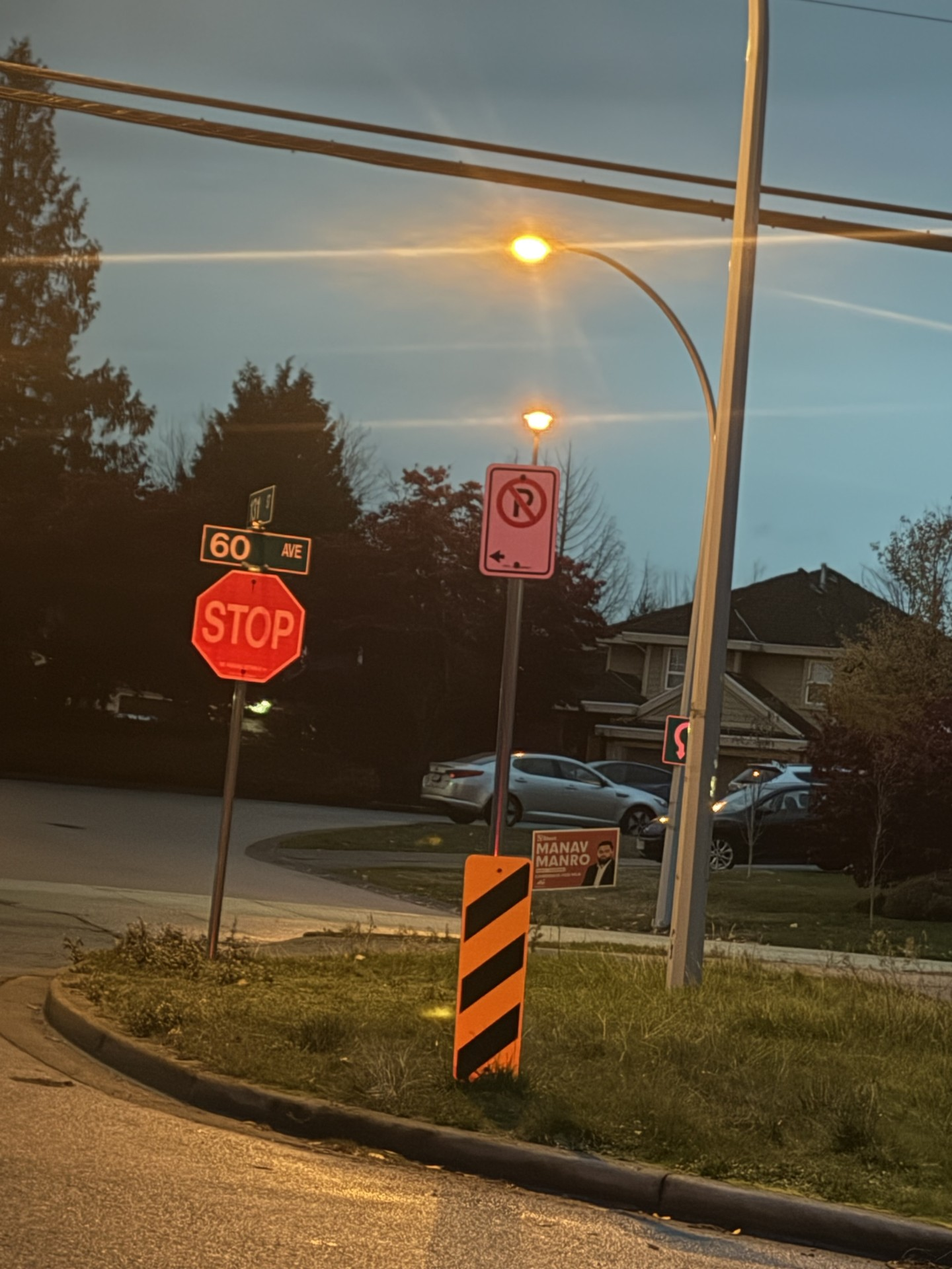stop: (182, 539, 319, 713)
